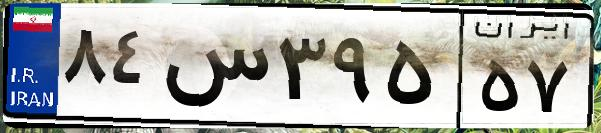3: (270, 28, 330, 110)
4: (110, 28, 158, 98)
5: (385, 28, 445, 110), (475, 38, 525, 113)
7: (525, 38, 570, 115)
8: (57, 26, 110, 100)
9: (330, 28, 385, 110)
س: (158, 20, 270, 120)
